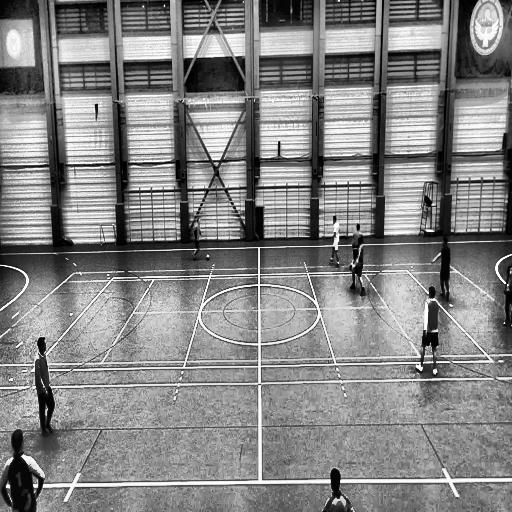ball: (206, 254, 210, 262)
player: (413, 285, 437, 375), (34, 338, 56, 436), (432, 236, 450, 301), (349, 225, 364, 295), (500, 258, 510, 326), (329, 216, 340, 267), (192, 216, 202, 258)
